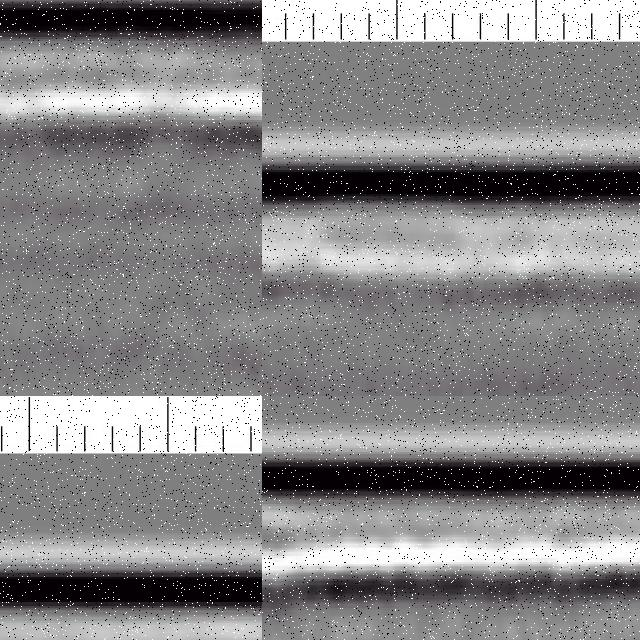loose: (1, 102, 93, 274)
